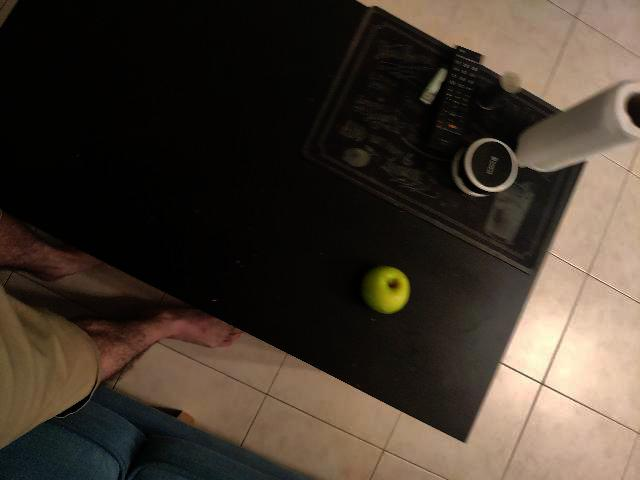apple: (414, 229, 474, 315)
